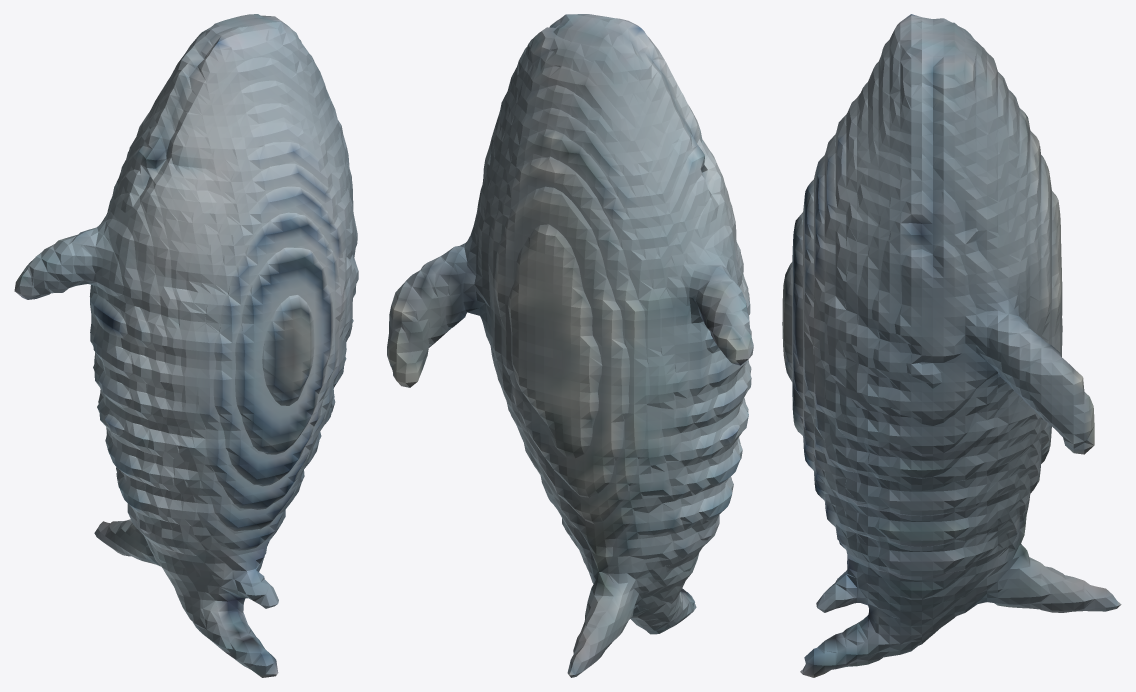
The picture shows the model from 3 angles, left to right: view 1: azimuth 30°, elevation 25°; view 2: azimuth 150°, elevation 25°; view 3: azimuth 270°, elevation 25°; orthographic projection. The views are drawn at different scales.
Parts seen in each view (by area): view 1: world; view 2: world; view 3: world.
Boxes of the visible parts, <box> form: world: <box>14,14,358,677</box>; world: <box>387,14,753,677</box>; world: <box>782,14,1121,677</box>.
Bounding box in the file's own units: 0.52 × 0.9295 × 0.4291.
